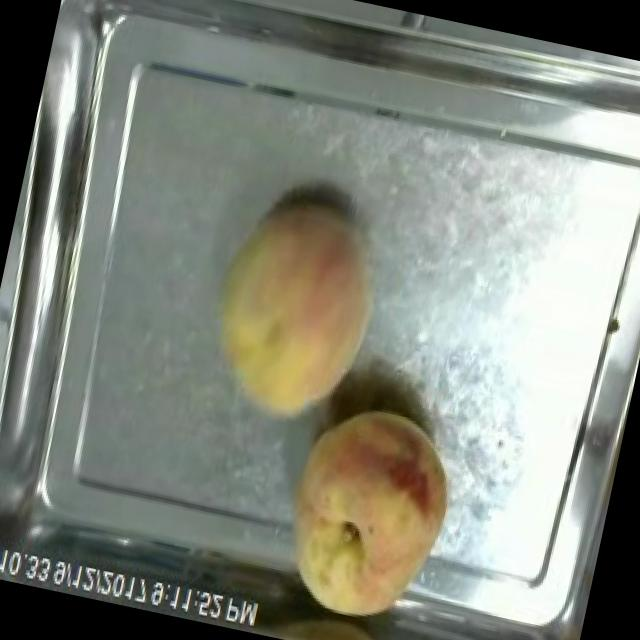Fruit: (185, 175, 406, 444), (257, 382, 477, 640)
